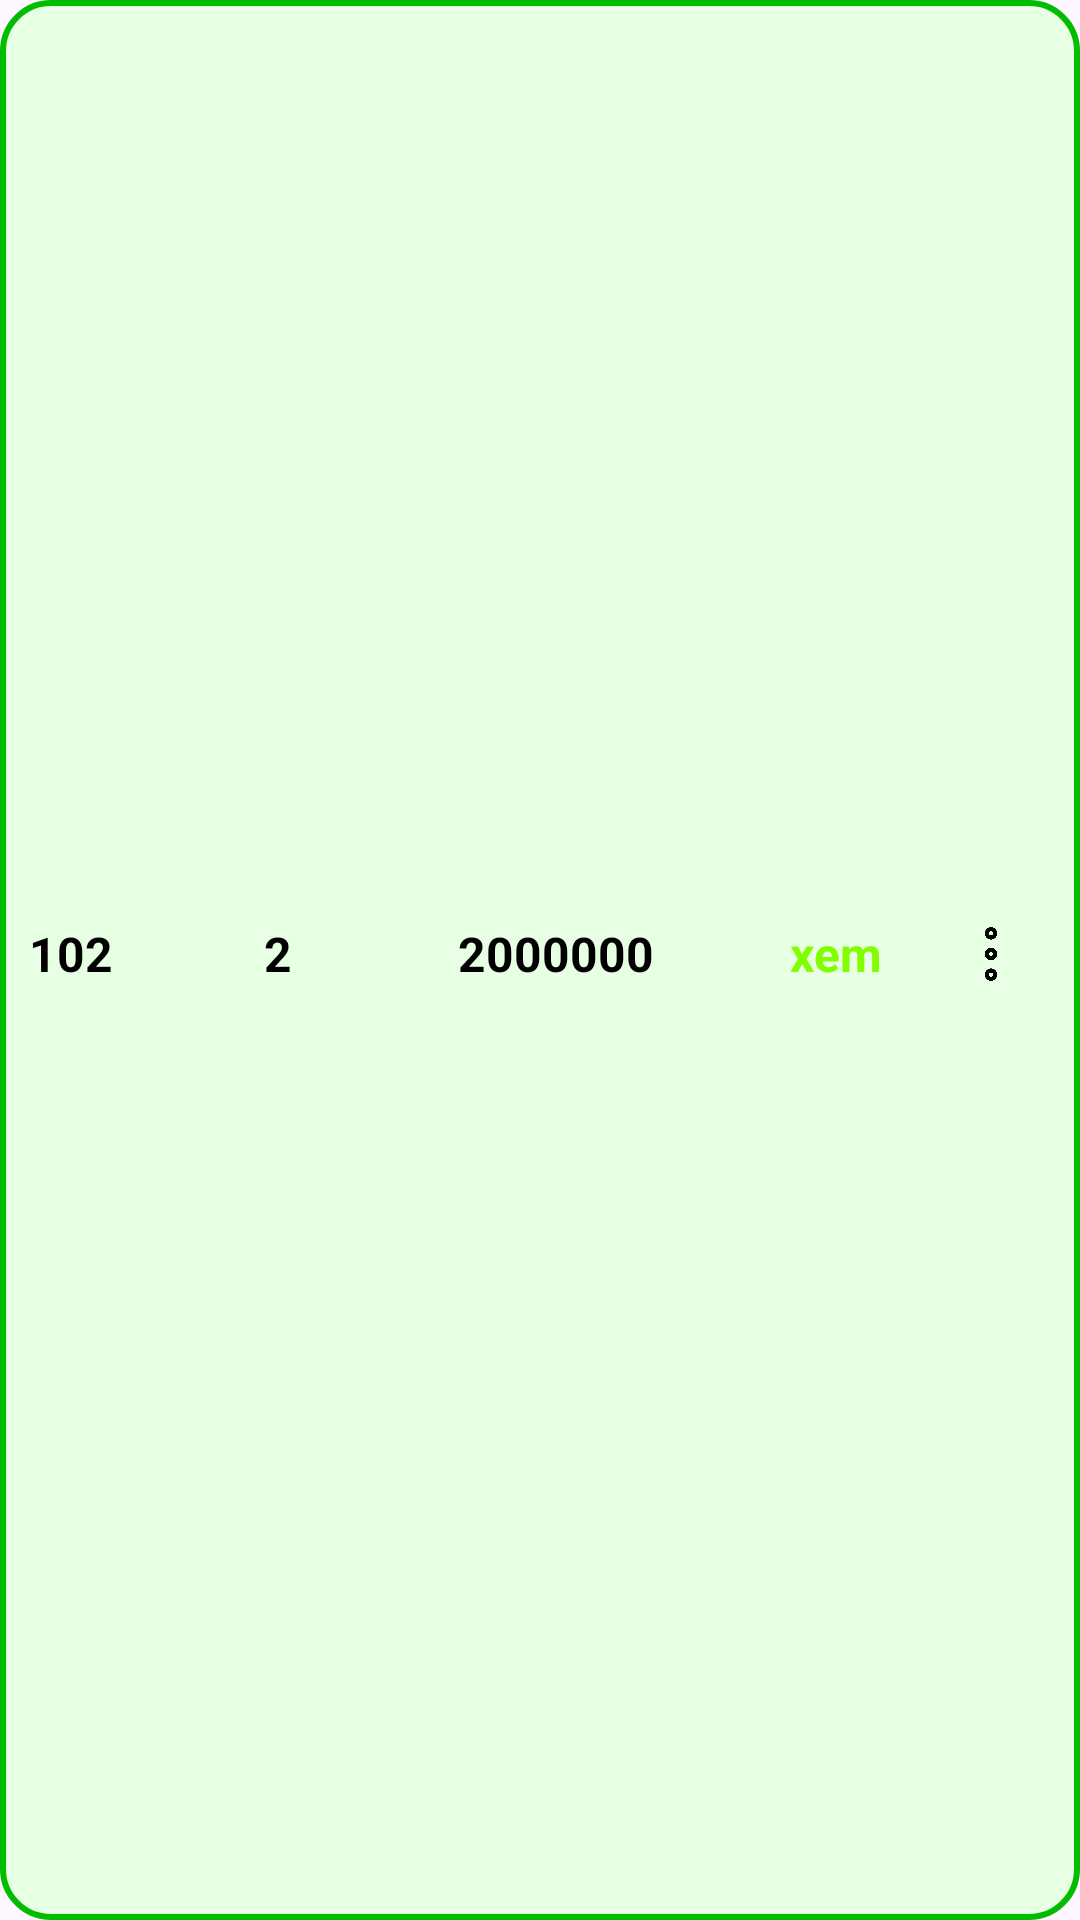

Where icons sit on this 1080*1920 app screen, as (left=x1, top=y1, right=x2, bottom=y2):
threedot: (left=985, top=927, right=997, bottom=981)
